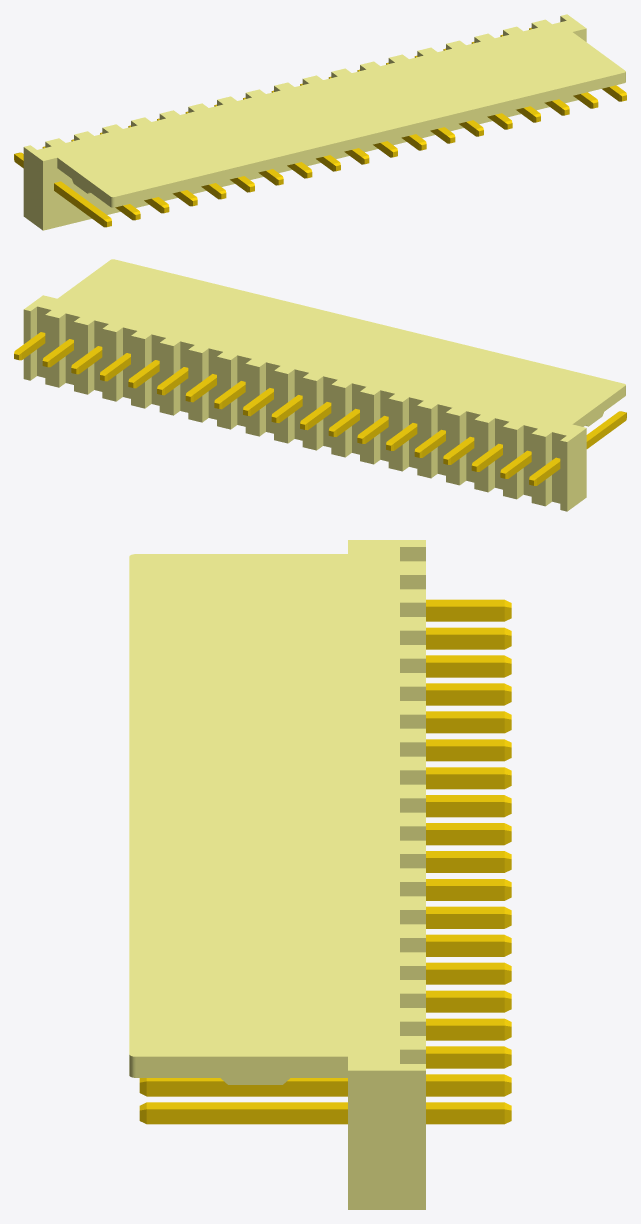
File: DS1070-19 (WF-19 CONNFLY).obj
The picture shows the model from 3 angles, top to bottom: view 1: azimuth 30°, elevation 25°; view 2: azimuth 150°, elevation 25°; view 3: azimuth 270°, elevation 25°; orthographic projection. The views are drawn at different scales.
Parts seen in each view (by area): view 1: DS1070-19_(WF-19_CONNFLY); view 2: DS1070-19_(WF-19_CONNFLY); view 3: DS1070-19_(WF-19_CONNFLY).
Part boxes in pixels (bbox=[...]): DS1070-19_(WF-19_CONNFLY): bbox=[14, 14, 626, 230]; DS1070-19_(WF-19_CONNFLY): bbox=[14, 259, 626, 511]; DS1070-19_(WF-19_CONNFLY): bbox=[129, 540, 511, 1209].
Size of the model in its own units: 0.0176 by 0.00215 by 0.00535.
